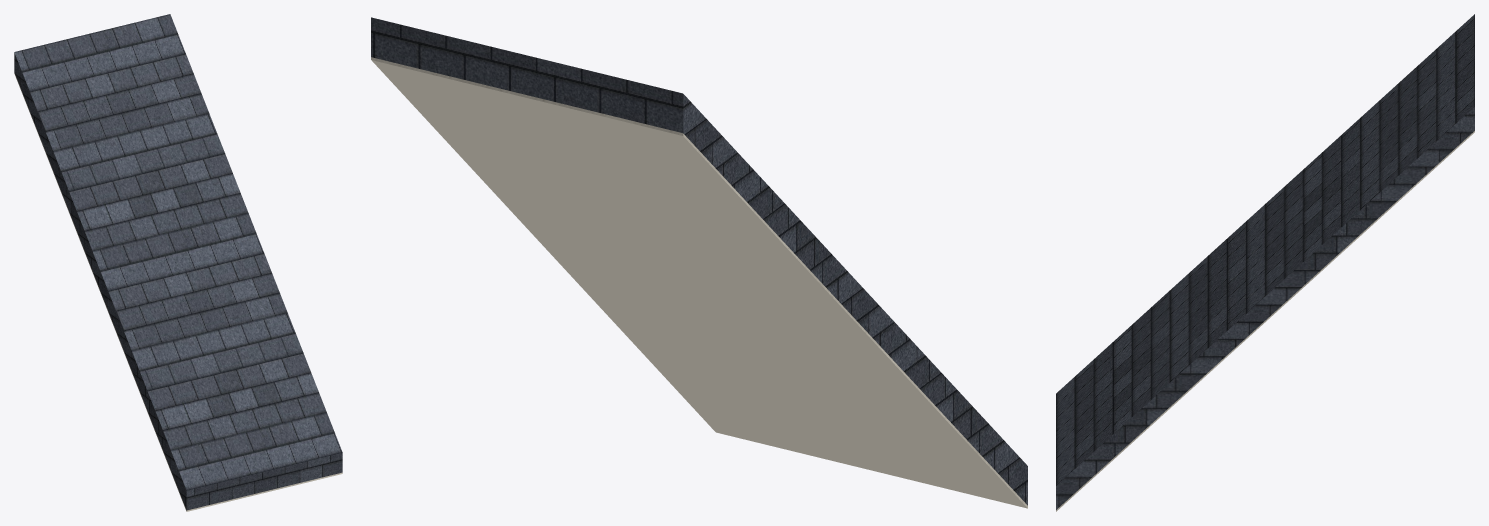
Rendered from roof_slope_end_l.glb.
The picture shows the model from 3 angles, left to right: view 1: azimuth 30°, elevation 25°; view 2: azimuth 150°, elevation 25°; view 3: azimuth 270°, elevation 25°; orthographic projection. The views are drawn at different scales.
Parts seen in each view (by area): view 1: roof_slope_end_l_shingle, roof_slope_end_l_plaster; view 2: roof_slope_end_l_plaster, roof_slope_end_l_shingle; view 3: roof_slope_end_l_shingle, roof_slope_end_l_plaster.
Part boxes in pixels (x1,y1,x2,y2): roof_slope_end_l_shingle: (14,14,342,510); roof_slope_end_l_plaster: (14,73,342,511); roof_slope_end_l_plaster: (371,57,1027,508); roof_slope_end_l_shingle: (371,17,1027,505); roof_slope_end_l_shingle: (1056,14,1474,509); roof_slope_end_l_plaster: (1056,131,1474,511).
Size of the model in its own units: 2.3 by 4.7 by 4.4.
Materials: 2 (2 with a texture image).
